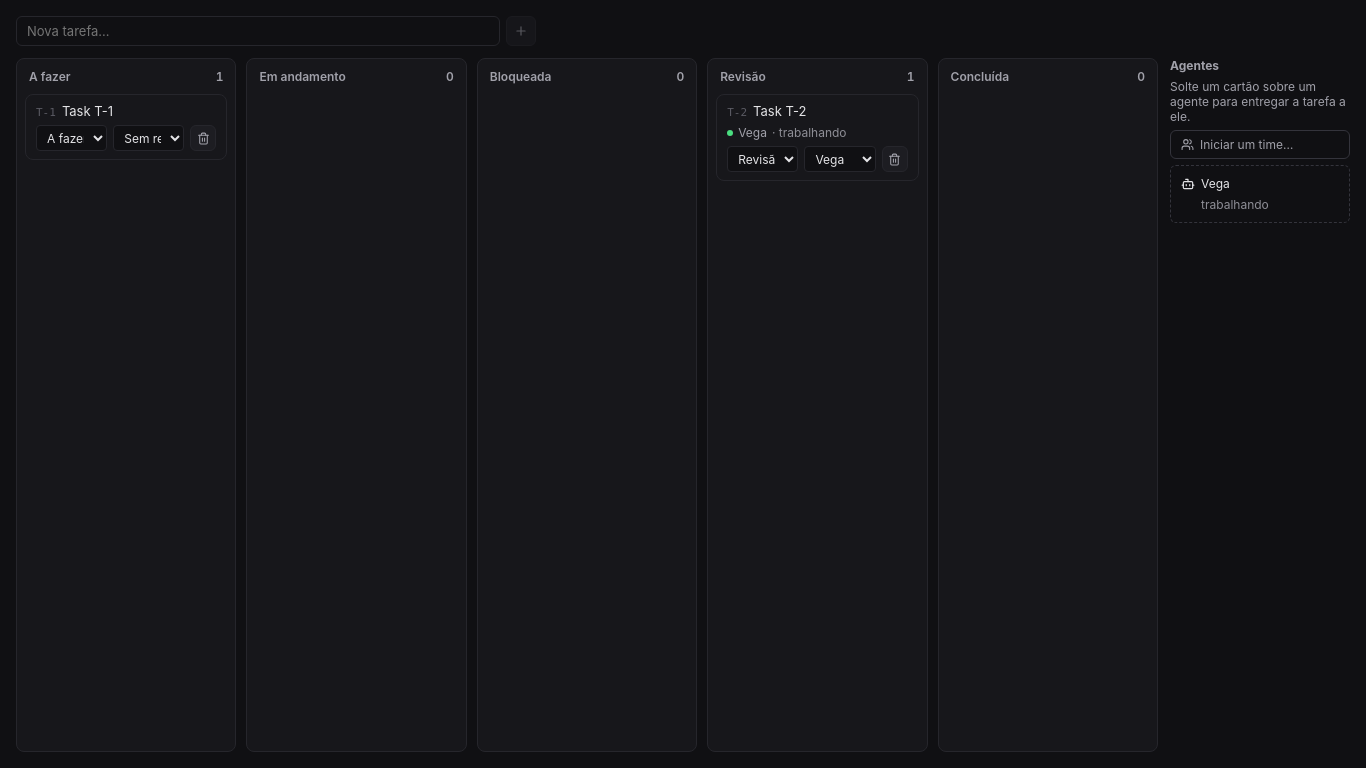
TaskBoard actions › Given a store error, when dismissing it, then it clears
Expected: the text "Task T-1" is shown, left=62, top=103, right=113, bottom=119
Click the button named "Excluir a tarefa T-1": (203, 138) left=190, top=125, right=216, bottom=151
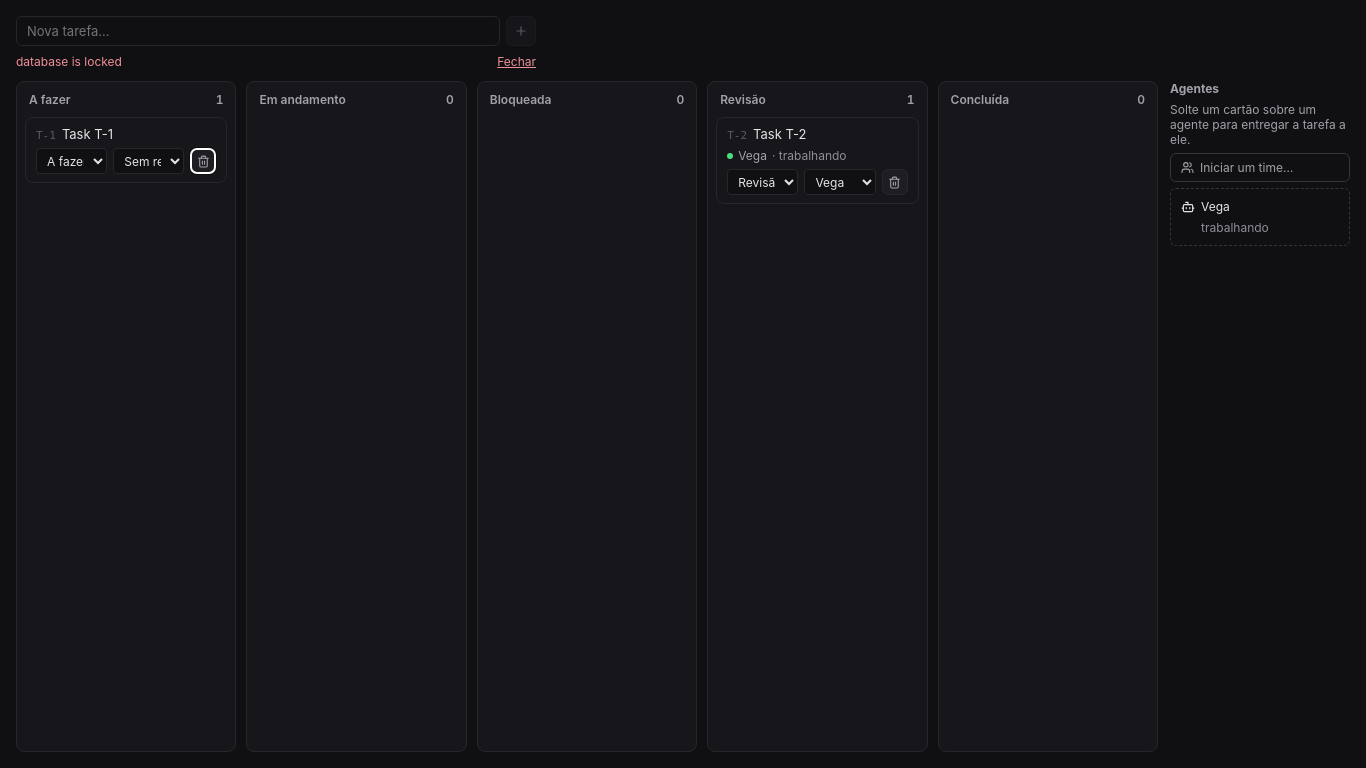
Now the message shows "database is locked", box left=16, top=54, right=122, bottom=69
Click the button "Fechar": (517, 62) left=497, top=54, right=536, bottom=69
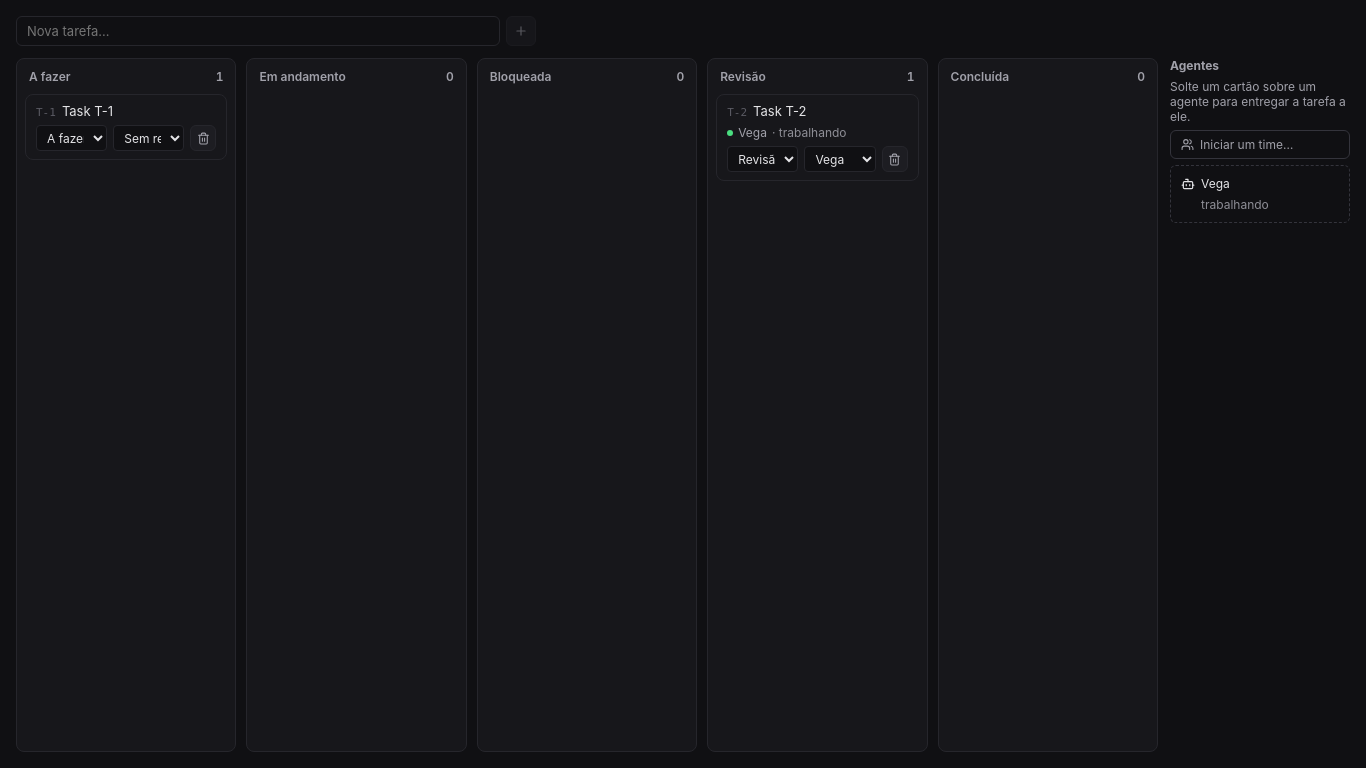
Now the message "database is locked Fechar" is gone
